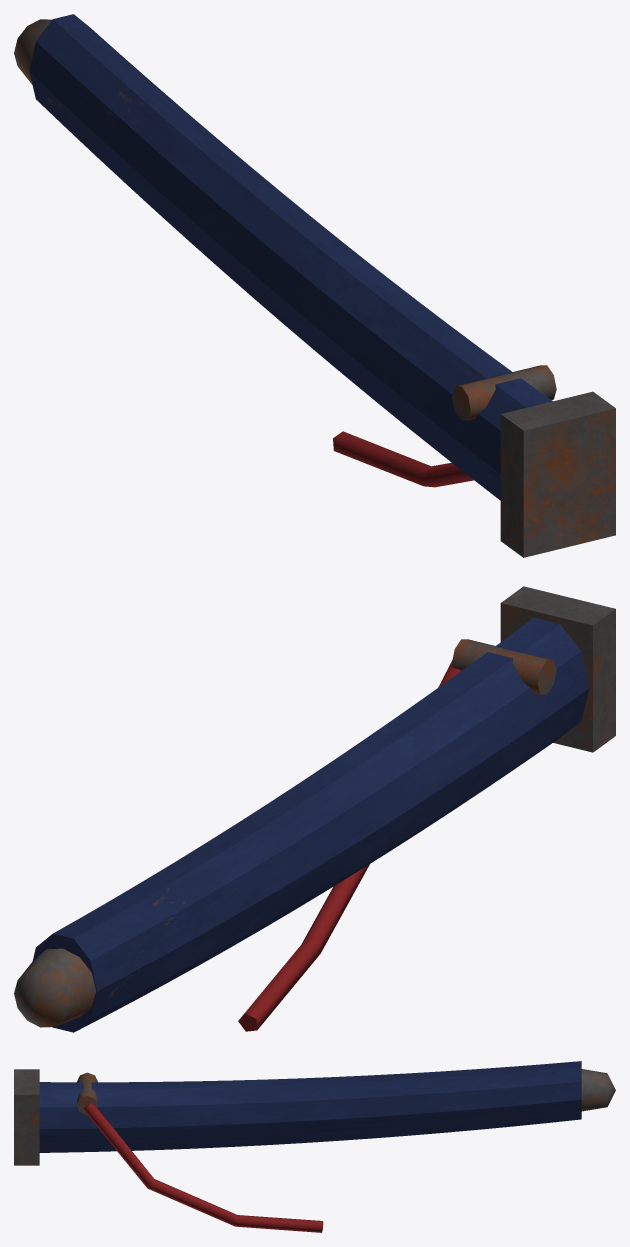
The model's file is HO_Weapon_MoonlitEdge_Saya.fbx.
The picture shows the model from 3 angles, top to bottom: view 1: azimuth 30°, elevation 25°; view 2: azimuth 150°, elevation 25°; view 3: azimuth 270°, elevation 25°; orthographic projection. The views are drawn at different scales.
Visible parts, largest first — view 1: HO_Weapon_MoonlitEdge_Saya__Navy_Lacquer, HO_Weapon_MoonlitEdge_Saya__Iron_Wrought, HO_Weapon_MoonlitEdge_Saya__Cloth_Crimson; view 2: HO_Weapon_MoonlitEdge_Saya__Navy_Lacquer, HO_Weapon_MoonlitEdge_Saya__Iron_Wrought, HO_Weapon_MoonlitEdge_Saya__Cloth_Crimson; view 3: HO_Weapon_MoonlitEdge_Saya__Navy_Lacquer, HO_Weapon_MoonlitEdge_Saya__Iron_Wrought, HO_Weapon_MoonlitEdge_Saya__Cloth_Crimson.
Boxes of the visible parts, left/top/right/bottom form: HO_Weapon_MoonlitEdge_Saya__Navy_Lacquer: left=29, top=14, right=552, bottom=500; HO_Weapon_MoonlitEdge_Saya__Iron_Wrought: left=14, top=19, right=615, bottom=557; HO_Weapon_MoonlitEdge_Saya__Cloth_Crimson: left=333, top=431, right=473, bottom=487; HO_Weapon_MoonlitEdge_Saya__Navy_Lacquer: left=32, top=618, right=589, bottom=1032; HO_Weapon_MoonlitEdge_Saya__Iron_Wrought: left=14, top=586, right=615, bottom=1027; HO_Weapon_MoonlitEdge_Saya__Cloth_Crimson: left=238, top=660, right=460, bottom=1031; HO_Weapon_MoonlitEdge_Saya__Navy_Lacquer: left=39, top=1061, right=581, bottom=1152; HO_Weapon_MoonlitEdge_Saya__Iron_Wrought: left=14, top=1069, right=615, bottom=1165; HO_Weapon_MoonlitEdge_Saya__Cloth_Crimson: left=83, top=1102, right=323, bottom=1232.
Size of the model in its own units: 0.3699 by 0.8033 by 2.82.
